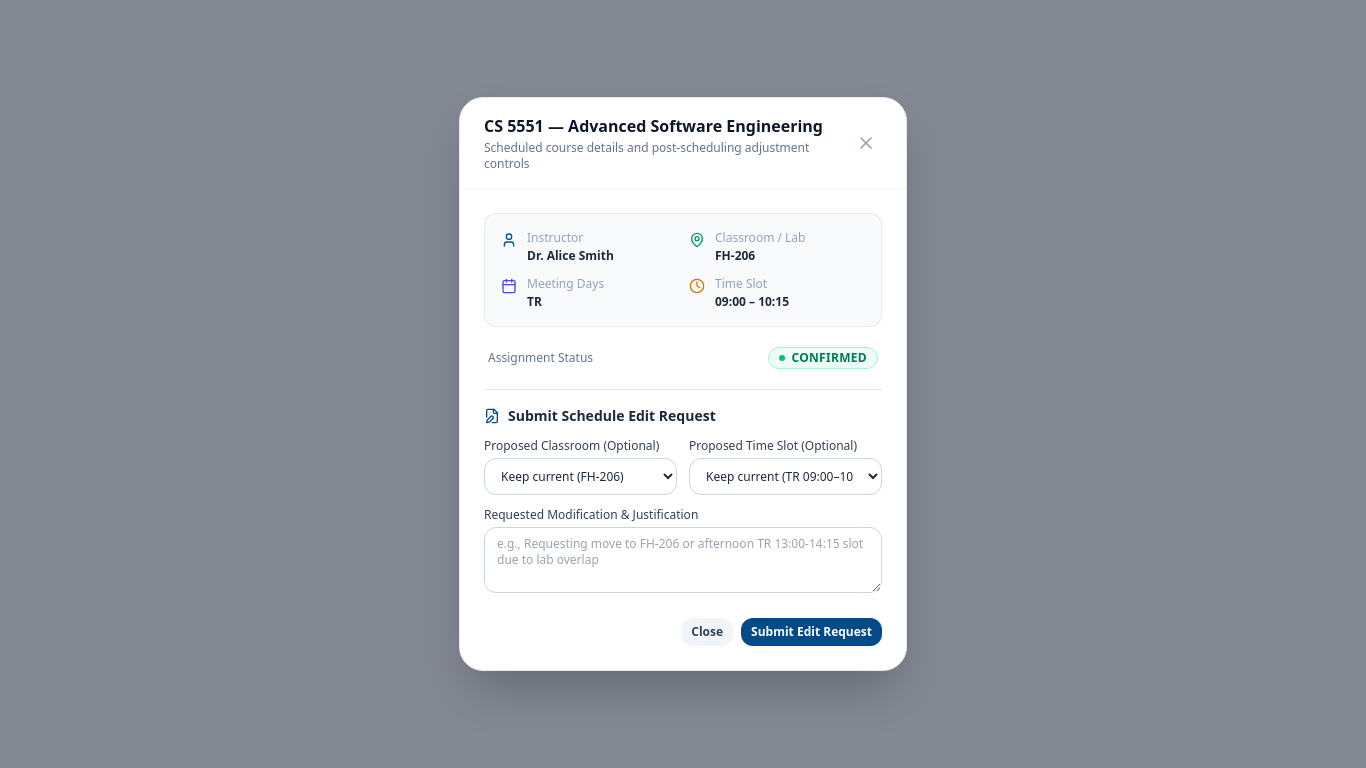
Test: EventDetailModal › validates empty description and submits edit request on valid input without optional keys when unselected
Click the button with test id "submit-edit-request-button" at (812,632), box [741,618,882,646]
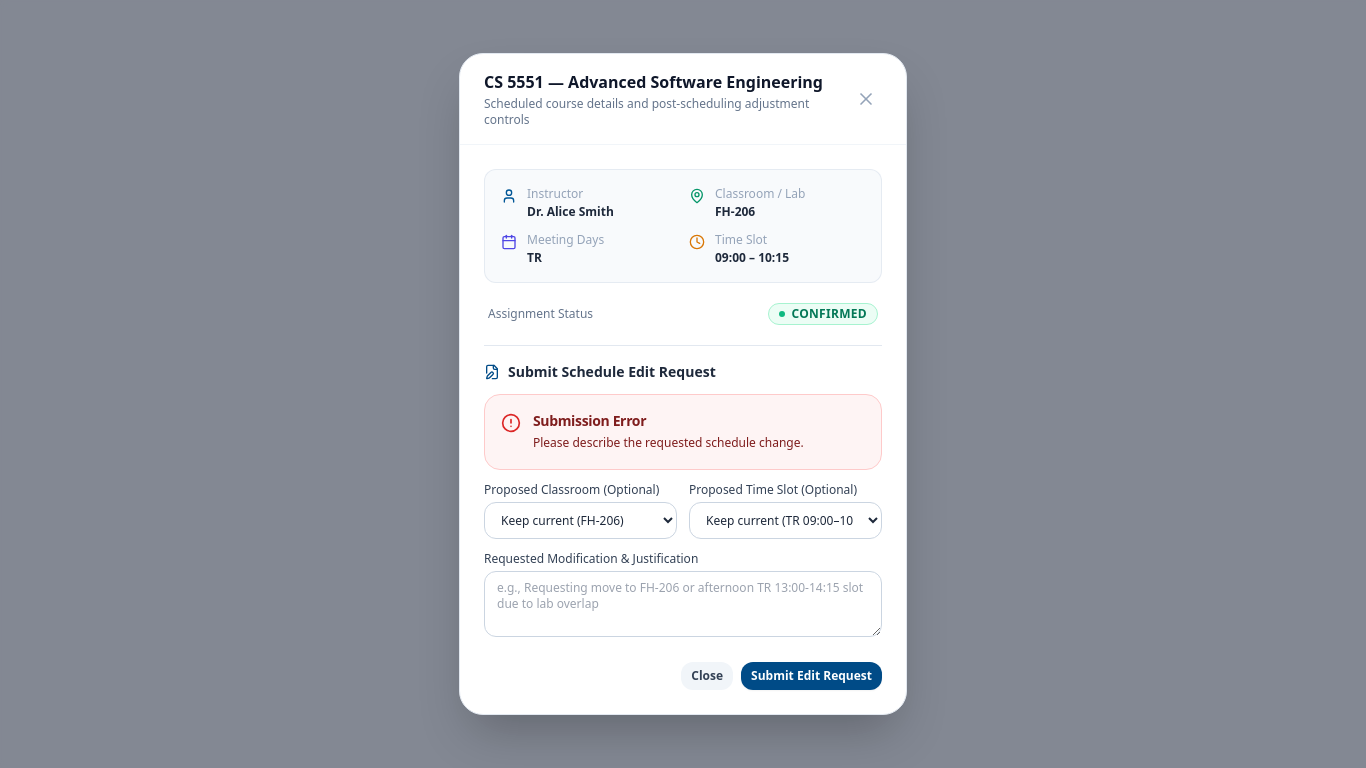
Expected: the text "Please describe the requested schedule change." is shown, [533,434,804,451]
Replace the text in the text box with test id "edit-request-textarea" with "Need larger lab room FH-310" at (683,604), box [484,571,882,637]
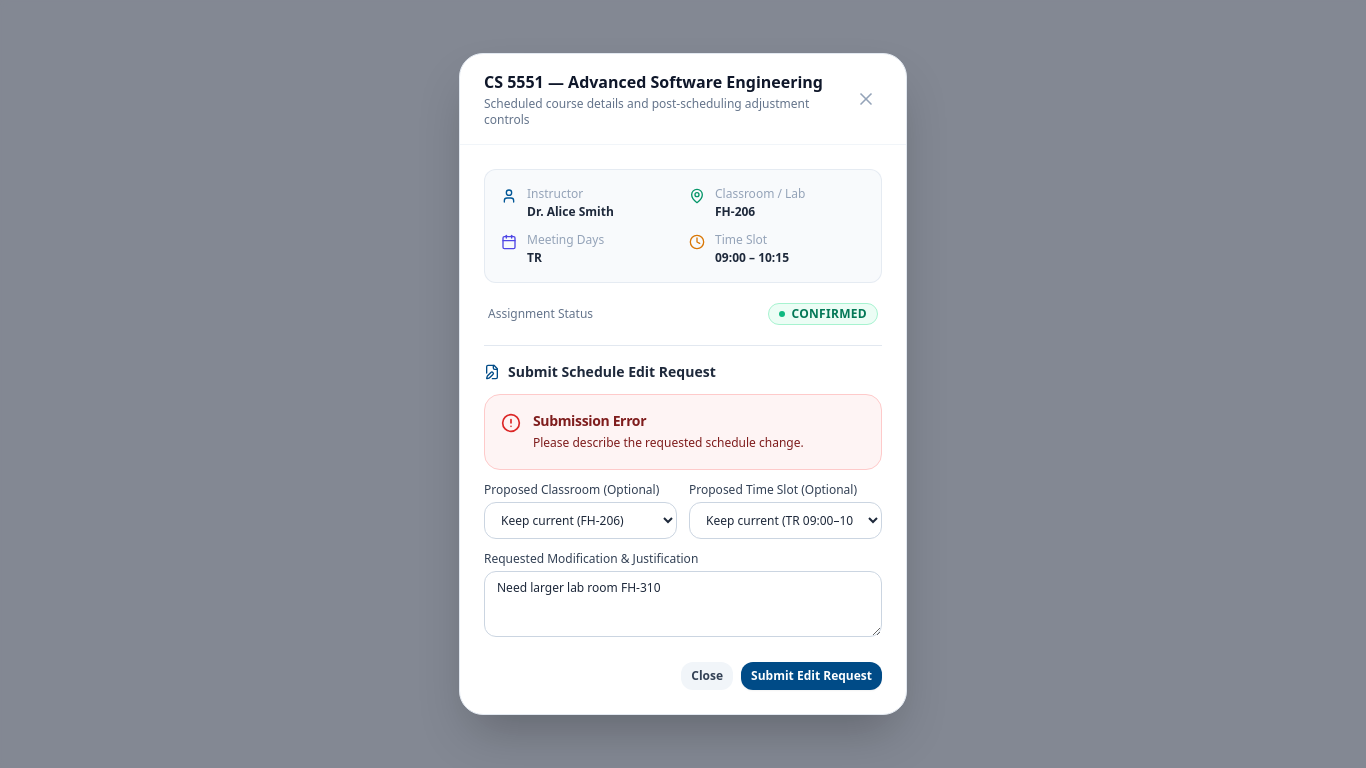
Click the button with test id "submit-edit-request-button" at (812,676), box [741,662,882,690]
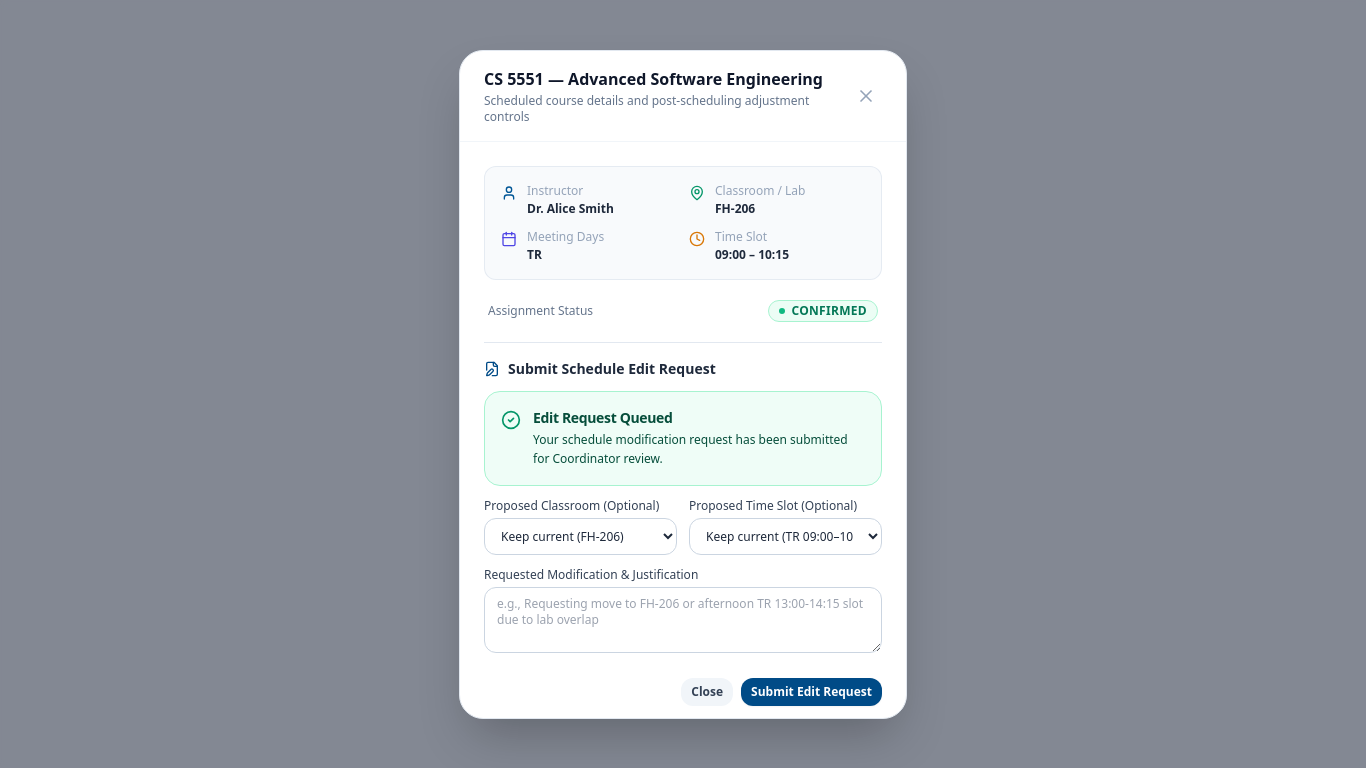
Expected: the heading "Edit Request Queued" is shown, [533,408,672,426]
